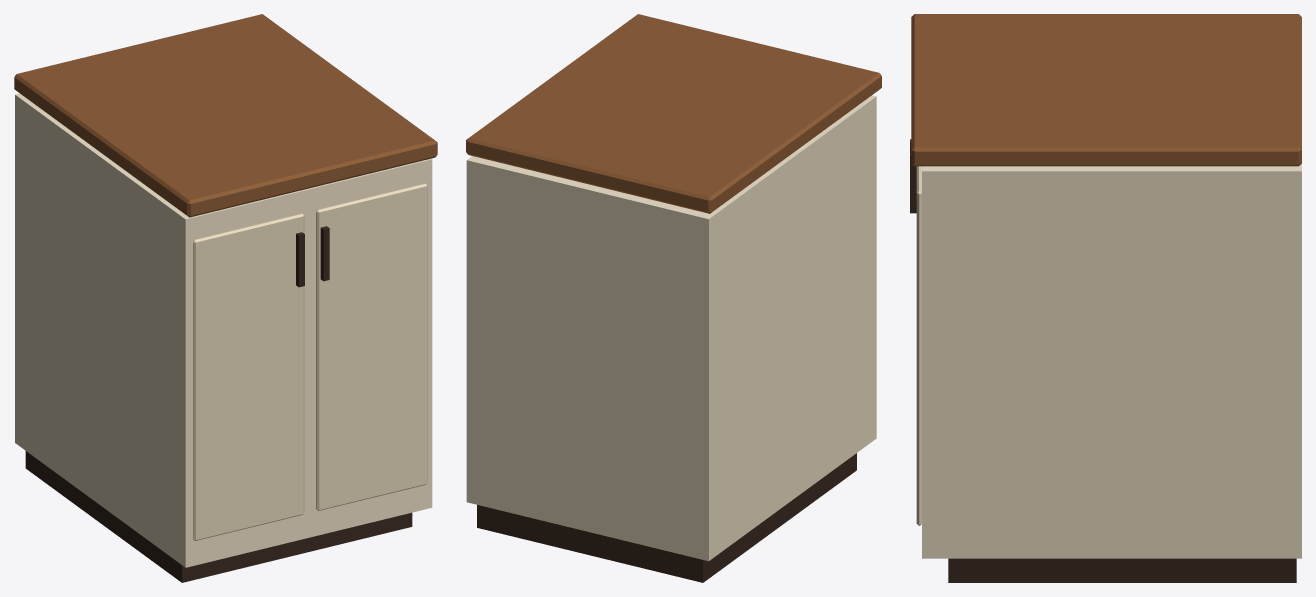
Rendered from counter_section.glb.
3 views of the same model, side by side, from view 1: azimuth 30°, elevation 25°; view 2: azimuth 150°, elevation 25°; view 3: azimuth 270°, elevation 25° (orthographic). The views are drawn at different scales.
Visible parts, largest first — view 1: counter_section; view 2: counter_section; view 3: counter_section.
Boxes of the visible parts, <box> form: counter_section: <box>14,14,437,582</box>; counter_section: <box>466,14,881,582</box>; counter_section: <box>910,14,1301,582</box>.
Bounding box in the file's own units: 0.61 × 0.92 × 0.7425.
